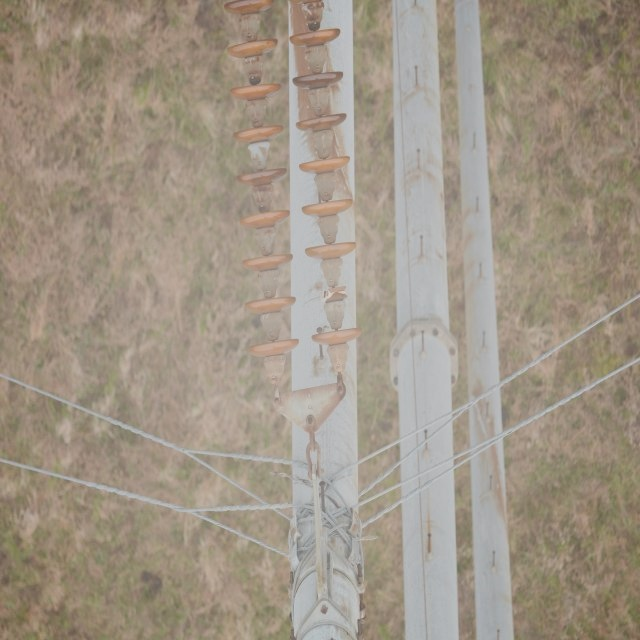broken: (320, 282, 350, 304)
insulator: (227, 0, 361, 357)
